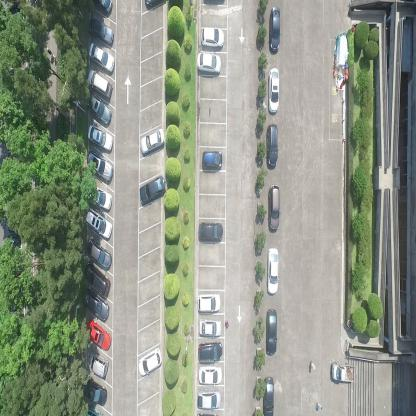car: (83, 260, 111, 298), (80, 288, 110, 322), (139, 173, 167, 207), (84, 237, 112, 270), (85, 207, 113, 240), (86, 150, 114, 183), (85, 92, 112, 126), (87, 41, 115, 73), (86, 318, 112, 351), (138, 345, 163, 378), (86, 124, 113, 153), (87, 70, 113, 100), (83, 376, 107, 408), (140, 127, 166, 156), (88, 16, 114, 45), (87, 350, 109, 380), (87, 185, 112, 211), (268, 5, 281, 53), (267, 184, 280, 232), (200, 24, 224, 50), (331, 360, 355, 385), (265, 306, 277, 355), (266, 247, 278, 295), (196, 52, 221, 75), (198, 219, 223, 242), (266, 122, 278, 168), (197, 387, 222, 409), (268, 64, 279, 113), (197, 318, 222, 338), (201, 149, 223, 171), (198, 292, 222, 312), (199, 340, 223, 360), (198, 364, 222, 384), (263, 377, 275, 415), (90, 0, 114, 15)
